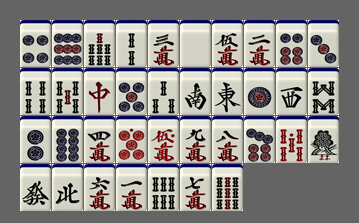0m: (148, 116, 179, 163)
0p: (116, 116, 147, 163)
0s: (276, 116, 307, 163)
1m: (116, 164, 147, 211)
1p: (244, 68, 275, 115)
1s: (308, 116, 339, 163)
1z: (212, 68, 243, 115)
2m: (244, 20, 275, 67)
2p: (20, 116, 51, 163)
2s: (116, 20, 147, 67)
2z: (180, 68, 211, 115)
3m: (148, 20, 179, 67)
3p: (308, 20, 339, 67)
3s: (148, 68, 179, 115)
3z: (276, 68, 307, 115)
4m: (84, 116, 115, 163)
4p: (20, 20, 51, 67)
4s: (20, 68, 51, 115)
4z: (52, 164, 83, 211)
5m: (212, 20, 243, 67)
5p: (116, 68, 147, 115)
5s: (52, 68, 83, 115)
5z: (180, 20, 211, 67)
6m: (84, 164, 115, 211)
6p: (276, 20, 307, 67)
6s: (148, 164, 179, 211)
6z: (20, 164, 51, 211)
7m: (180, 164, 211, 211)
7p: (244, 116, 275, 163)
7s: (84, 20, 115, 67)
7z: (84, 68, 115, 115)
8m: (212, 116, 243, 163)
8p: (52, 116, 83, 163)
8s: (308, 68, 339, 115)
9m: (180, 116, 211, 163)
9p: (52, 20, 83, 67)
9s: (212, 164, 243, 211)
